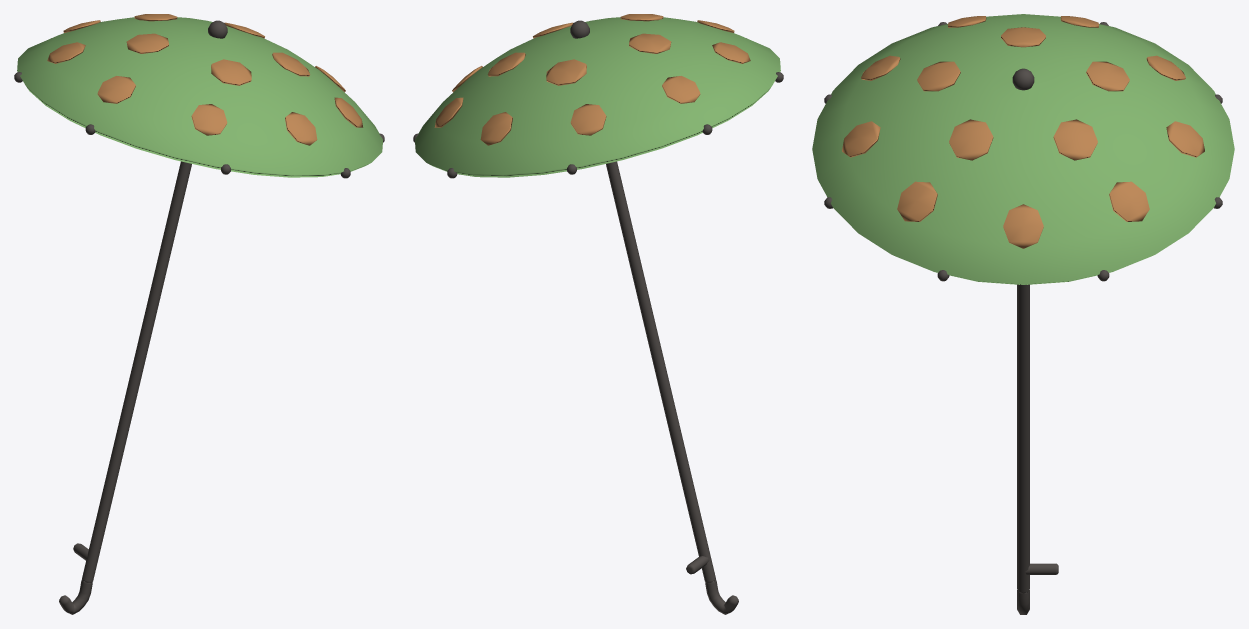
The model's file is camo_umbrella.glb.
3 renders of one model, left to right at view 1: azimuth 30°, elevation 25°; view 2: azimuth 150°, elevation 25°; view 3: azimuth 270°, elevation 25°, orthographic. The views are drawn at different scales.
Parts seen in each view (by area): view 1: camo_umbrella_ArmR; view 2: camo_umbrella_ArmR; view 3: camo_umbrella_ArmR.
Boxes of the visible parts, x1=… form: camo_umbrella_ArmR: x1=14, y1=14, x2=384, y2=614; camo_umbrella_ArmR: x1=413, y1=14, x2=783, y2=614; camo_umbrella_ArmR: x1=812, y1=14, x2=1234, y2=614.
Bounding box in the file's own units: 0.8703 × 1.47 × 0.9.
